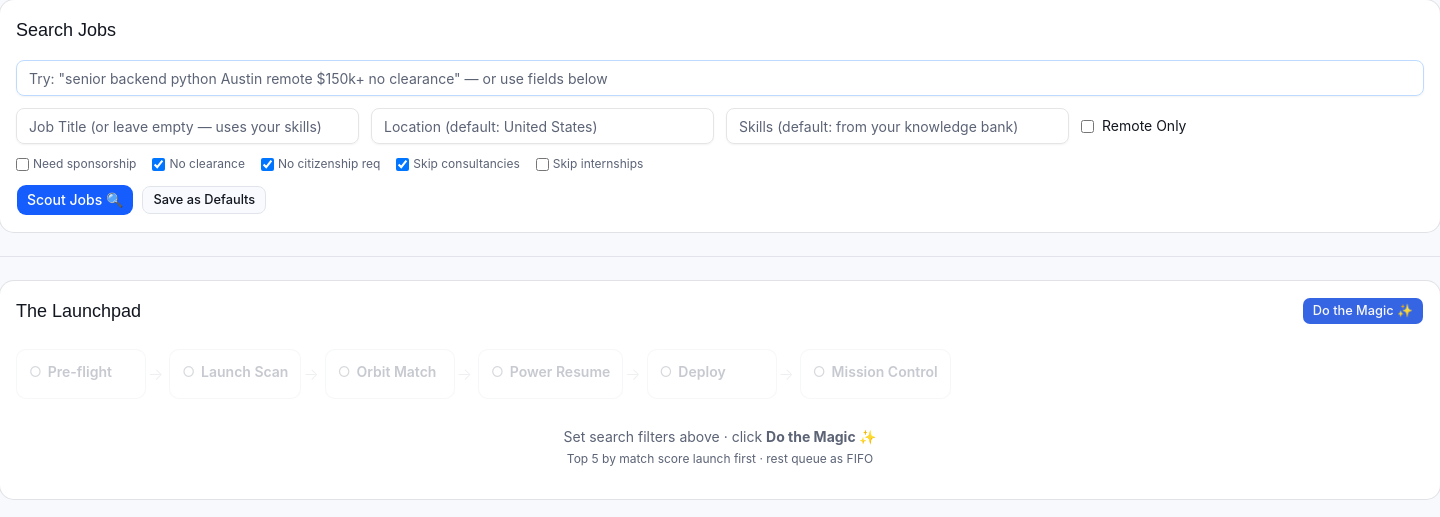
Scenario: Workflow: Scout jobs and match › renders an empty state when no jobs returned
Step 1. Click the button "Scout Jobs 🔍" → (75, 200), box x1=16 y1=184 x2=134 y2=216
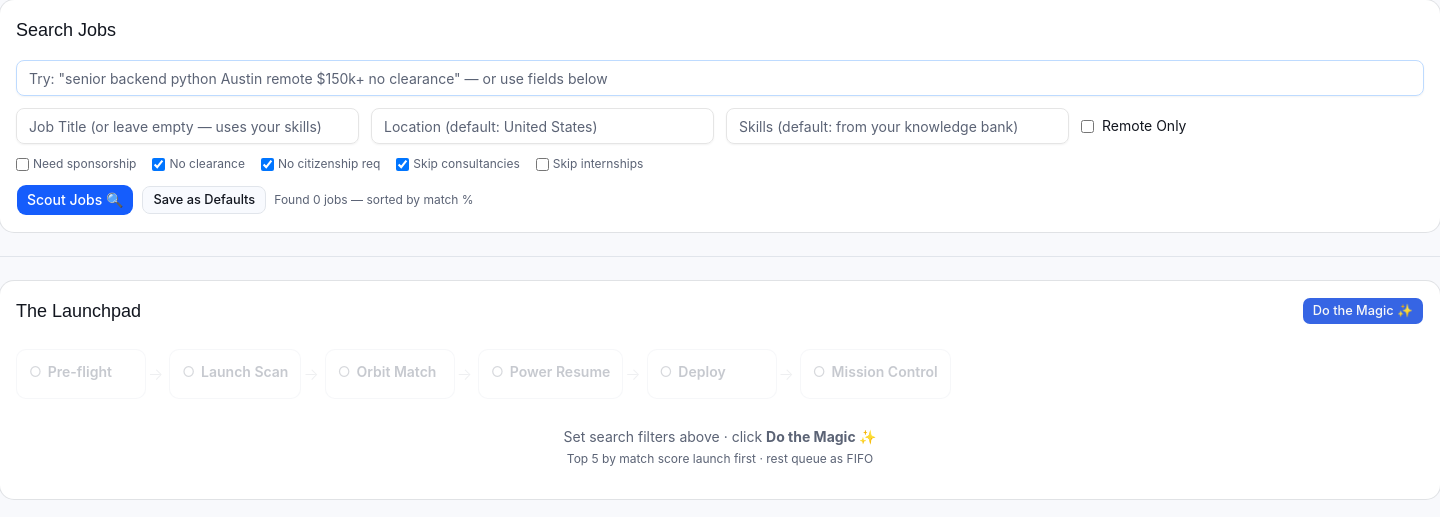
Expected: the text "Found 0 jobs — sorted by match %" is shown, x1=274 y1=192 x2=474 y2=208
